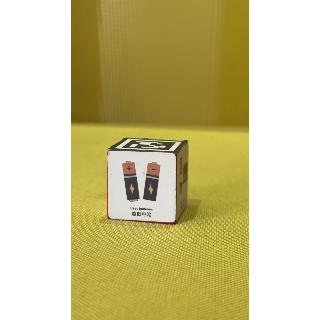Used_Battery: (108, 151, 176, 226)
